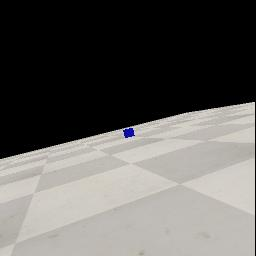box: (123, 128, 135, 138)
